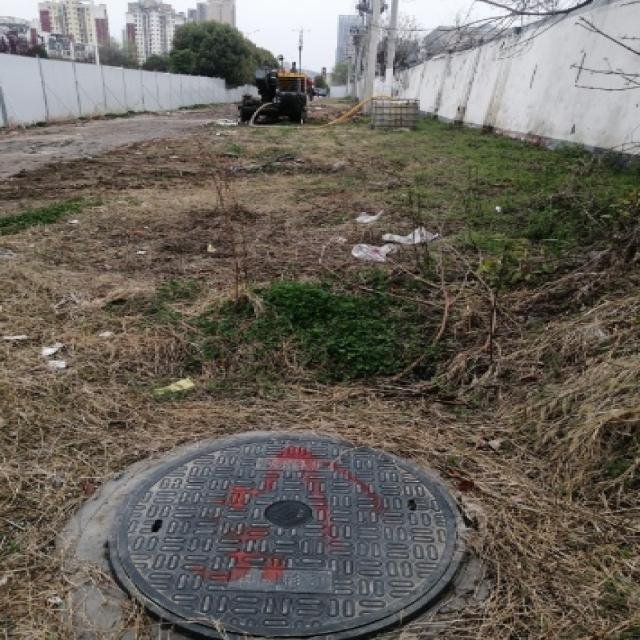Good: (90, 440, 492, 638)
